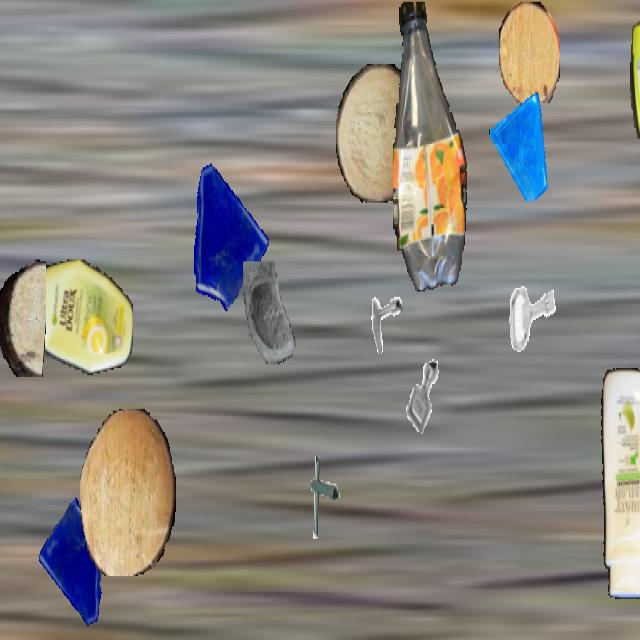glass: (181, 151, 271, 311), (37, 498, 115, 636), (237, 262, 305, 382), (489, 89, 551, 199)
metal: (501, 263, 561, 370), (395, 347, 451, 446), (296, 450, 348, 542), (360, 277, 402, 352), (0, 169, 3, 279)
plastic: (393, 2, 469, 290), (20, 259, 132, 377), (594, 368, 640, 599), (629, 2, 640, 290)
wood: (80, 409, 176, 576), (336, 64, 418, 203), (499, 2, 559, 105), (0, 258, 45, 375)
